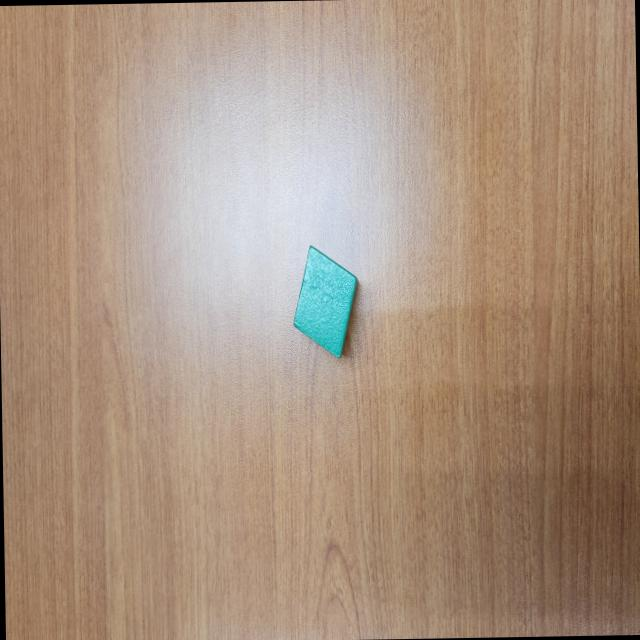green: (291, 245, 360, 358)
